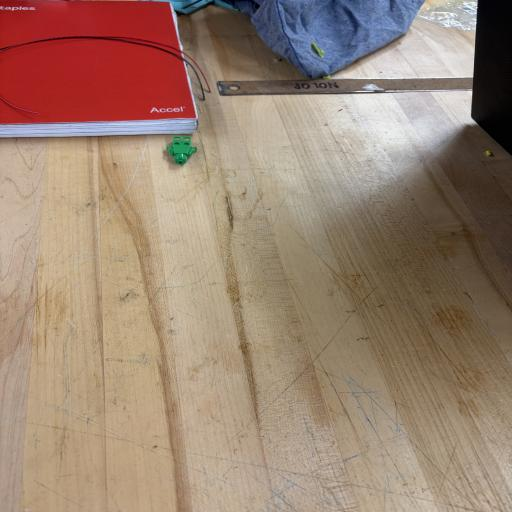Green-Lego: (166, 136, 197, 165)
